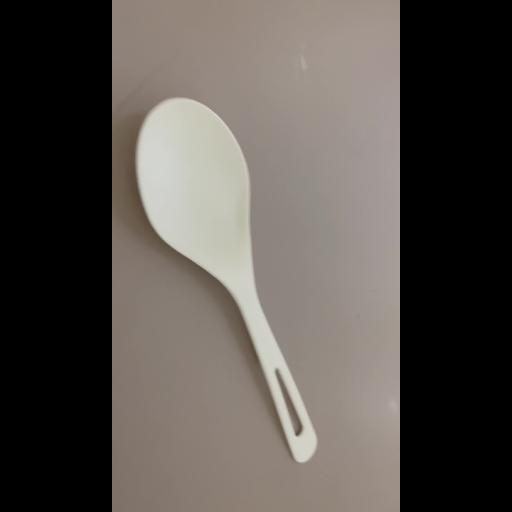utensil: (134, 94, 356, 470)
